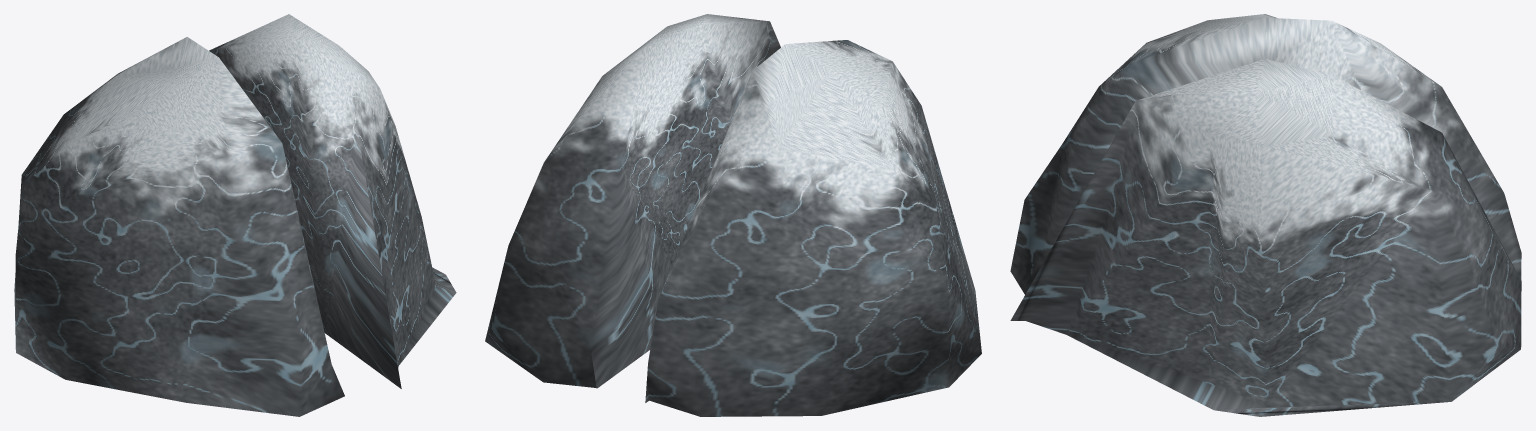
The model's file is rock_snowcap_icesplit_a_lod2.glb.
3 renders of one model, left to right at view 1: azimuth 30°, elevation 25°; view 2: azimuth 150°, elevation 25°; view 3: azimuth 270°, elevation 25°, orthographic. The views are drawn at different scales.
Visible parts, largest first — view 1: rock_snowcap_icesplit_a; view 2: rock_snowcap_icesplit_a; view 3: rock_snowcap_icesplit_a.
Part boxes in pixels (bbox=[...]): rock_snowcap_icesplit_a: bbox=[14, 14, 456, 416]; rock_snowcap_icesplit_a: bbox=[485, 14, 981, 416]; rock_snowcap_icesplit_a: bbox=[1010, 14, 1521, 416].
Bounding box in the file's own units: 1.76 × 1.12 × 1.83.
Materials: 1 (1 with a texture image).
